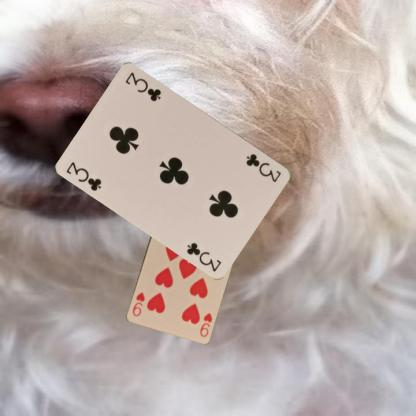3c: (243, 151, 283, 184), (64, 159, 104, 192)
9h: (197, 310, 213, 338)
